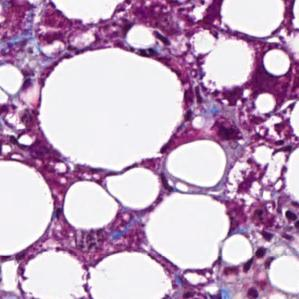inflammation: (250, 204, 298, 244), (241, 244, 278, 274)
